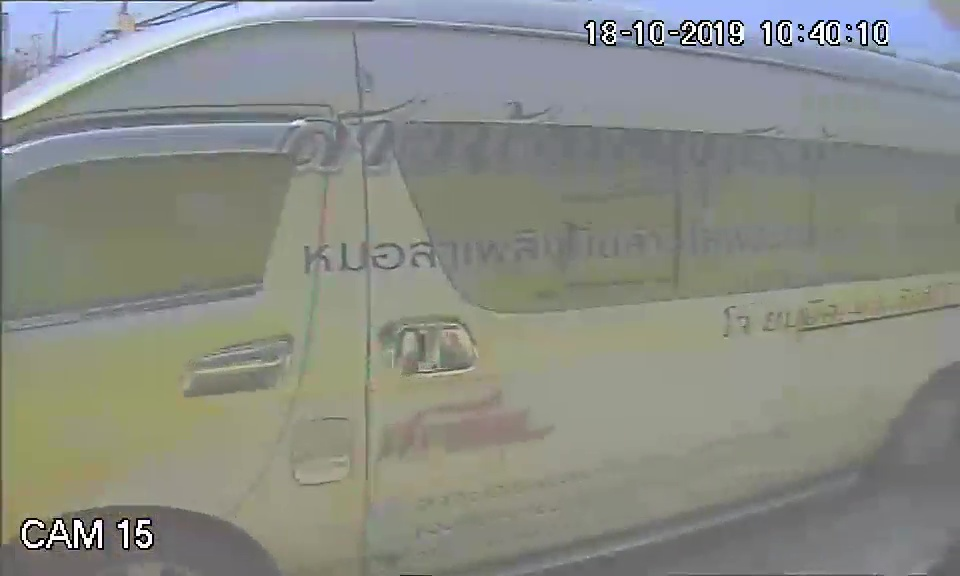van: (12, 8, 916, 557)
